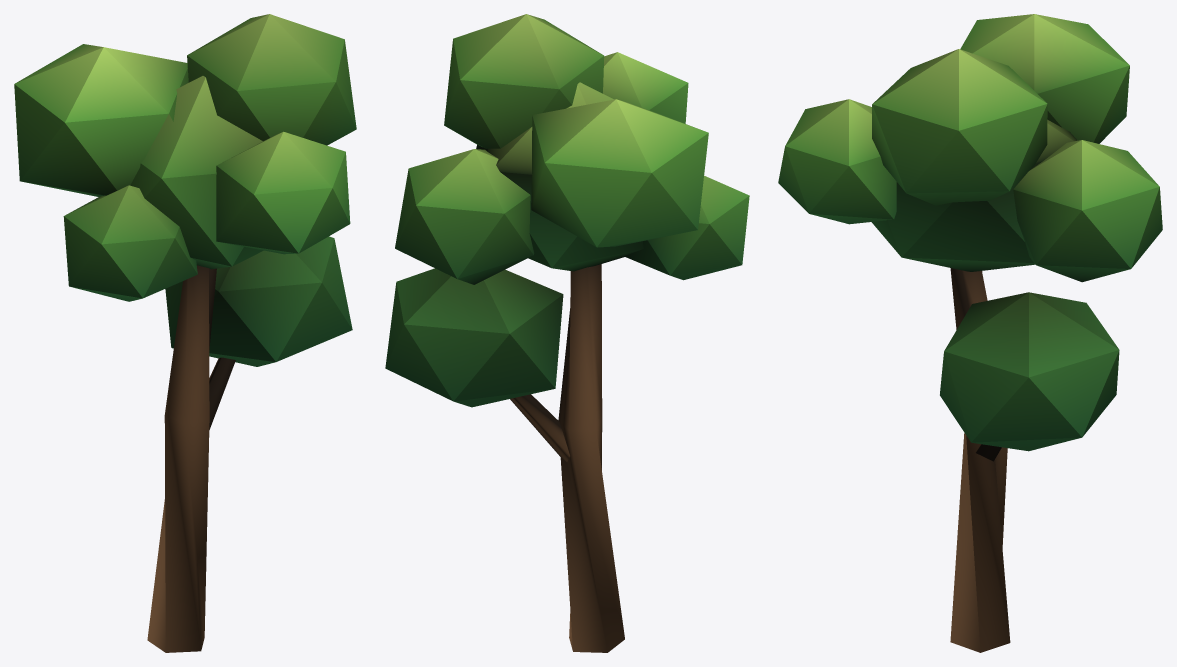
The model's file is tree-sapling.glb.
3 views of the same model, side by side, from view 1: azimuth 30°, elevation 25°; view 2: azimuth 150°, elevation 25°; view 3: azimuth 270°, elevation 25° (orthographic). The views are drawn at different scales.
Parts seen in each view (by area): view 1: 1_leaves.015, 0_trunk.015; view 2: 1_leaves.015, 0_trunk.015; view 3: 1_leaves.015, 0_trunk.015.
Part boxes in pixels (left/top/right/bottom): 1_leaves.015: left=14, top=14, right=356, bottom=366; 0_trunk.015: left=147, top=265, right=235, bottom=652; 1_leaves.015: left=385, top=14, right=749, bottom=407; 0_trunk.015: left=510, top=264, right=624, bottom=652; 1_leaves.015: left=778, top=14, right=1162, bottom=451; 0_trunk.015: left=950, top=268, right=1010, bottom=652.
Bounding box in the file's own units: 0.7584 × 1.44 × 0.7932.
